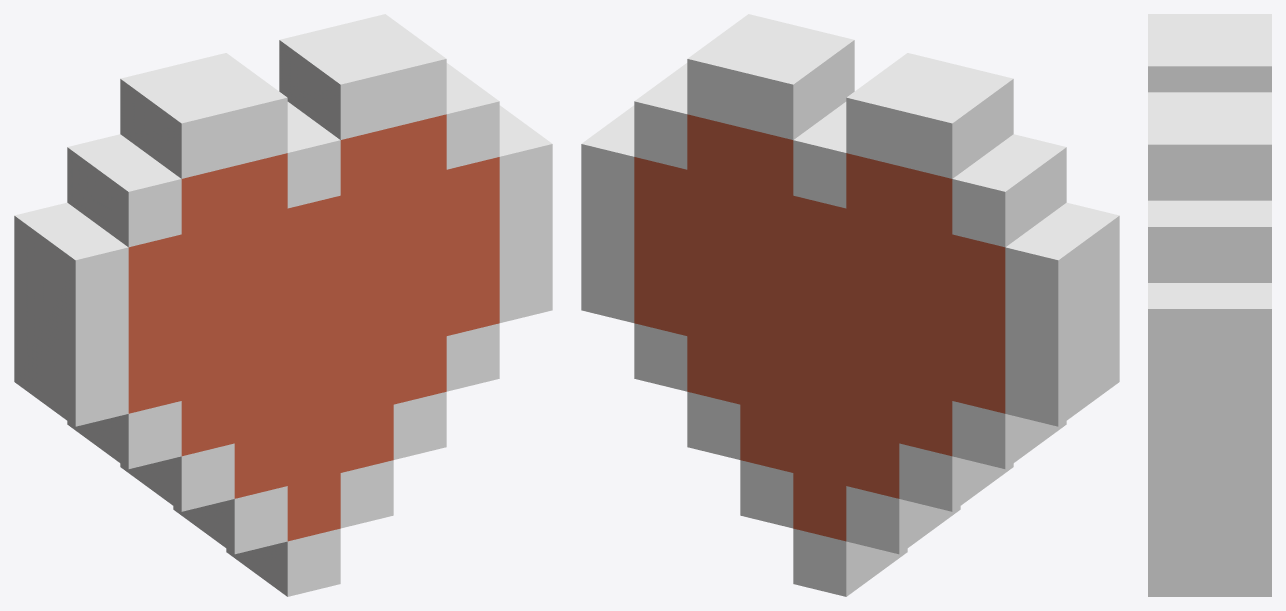
File: item2.obj
The picture shows the model from 3 angles, left to right: view 1: azimuth 30°, elevation 25°; view 2: azimuth 150°, elevation 25°; view 3: azimuth 270°, elevation 25°; orthographic projection.
Bounding box in the file's own units: 0.9 × 0.9 × 0.2.
1 material, 1 textured.
